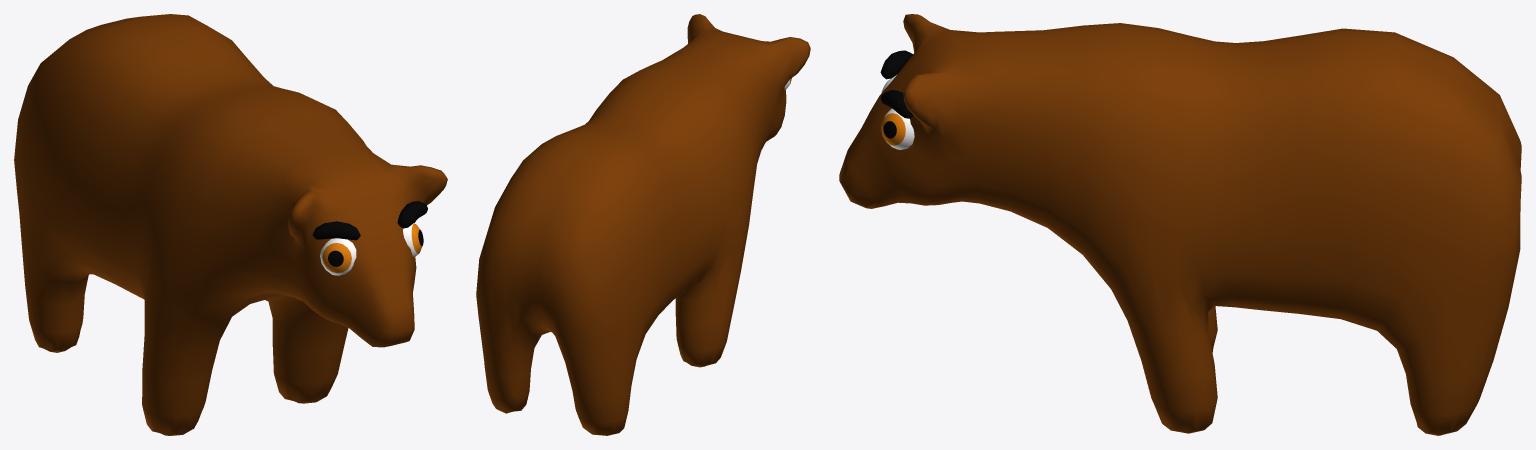
File: Bear.fbx
The picture shows the model from 3 angles, left to right: view 1: azimuth 30°, elevation 25°; view 2: azimuth 150°, elevation 25°; view 3: azimuth 270°, elevation 25°; orthographic projection. The views are drawn at different scales.
Visible parts, largest first — view 1: Bear; view 2: Bear; view 3: Bear.
Boxes of the visible parts, left/top/right/bottom form: Bear: left=14, top=14, right=447, bottom=435; Bear: left=476, top=14, right=810, bottom=435; Bear: left=839, top=14, right=1521, bottom=435.
Size of the model in its own units: 167 by 265 by 449.
1 material, 1 textured.
